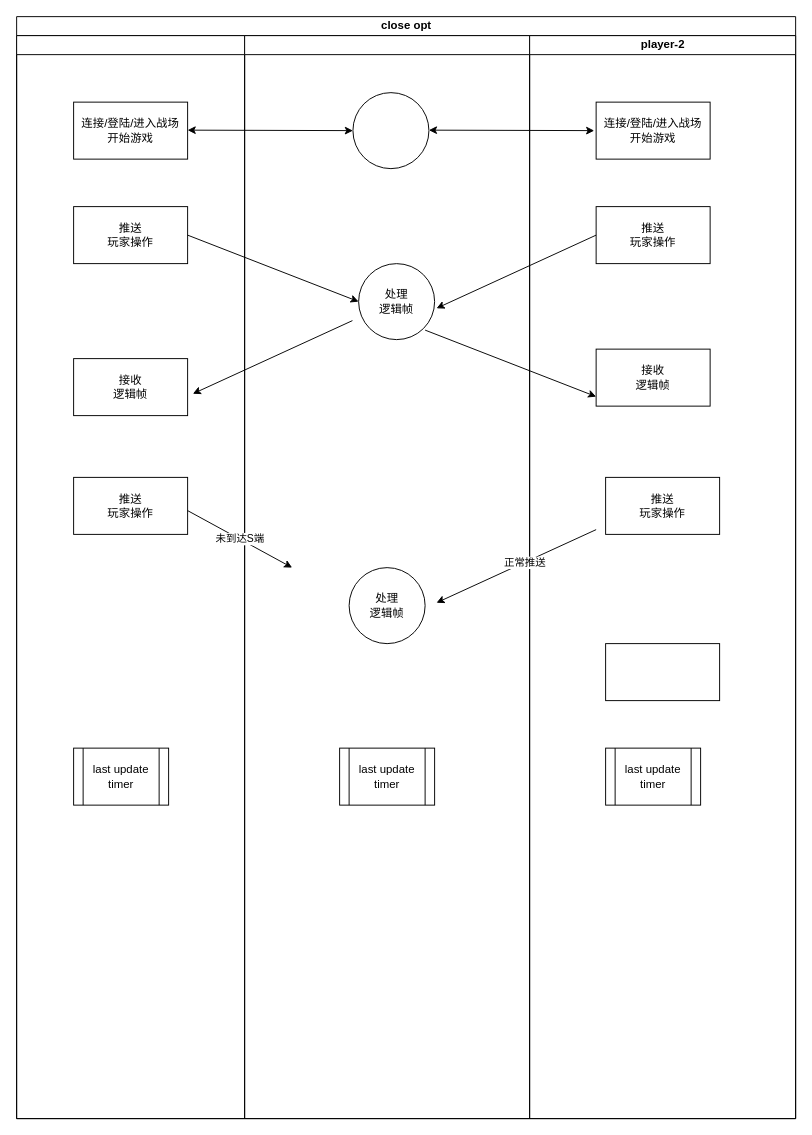
This 812x1135 diagram has some shape labels left out. The shapes that lost their labels are listed below. From the top down, each one's box as (x1, y1, x2, y2) in pixels, then its label:
(352, 92, 429, 169): 前置条件 初始化 完成
(16, 35, 245, 1119): player-1
(244, 35, 530, 1119): server
(605, 643, 720, 701): 接收 逻辑帧 死循环
